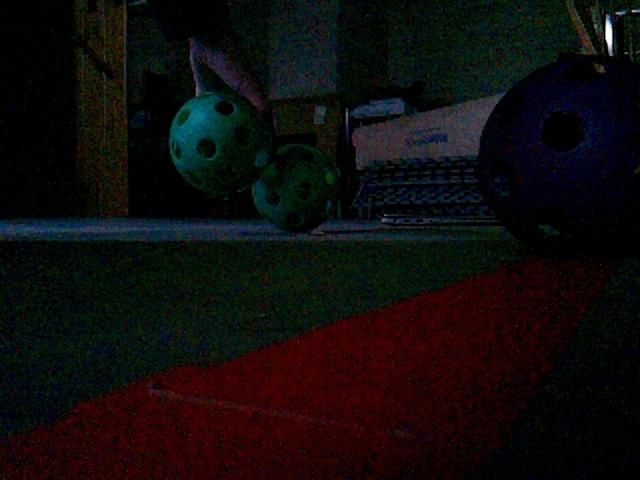Green: (168, 92, 270, 196), (249, 144, 341, 232)
Purple: (476, 54, 638, 254)
